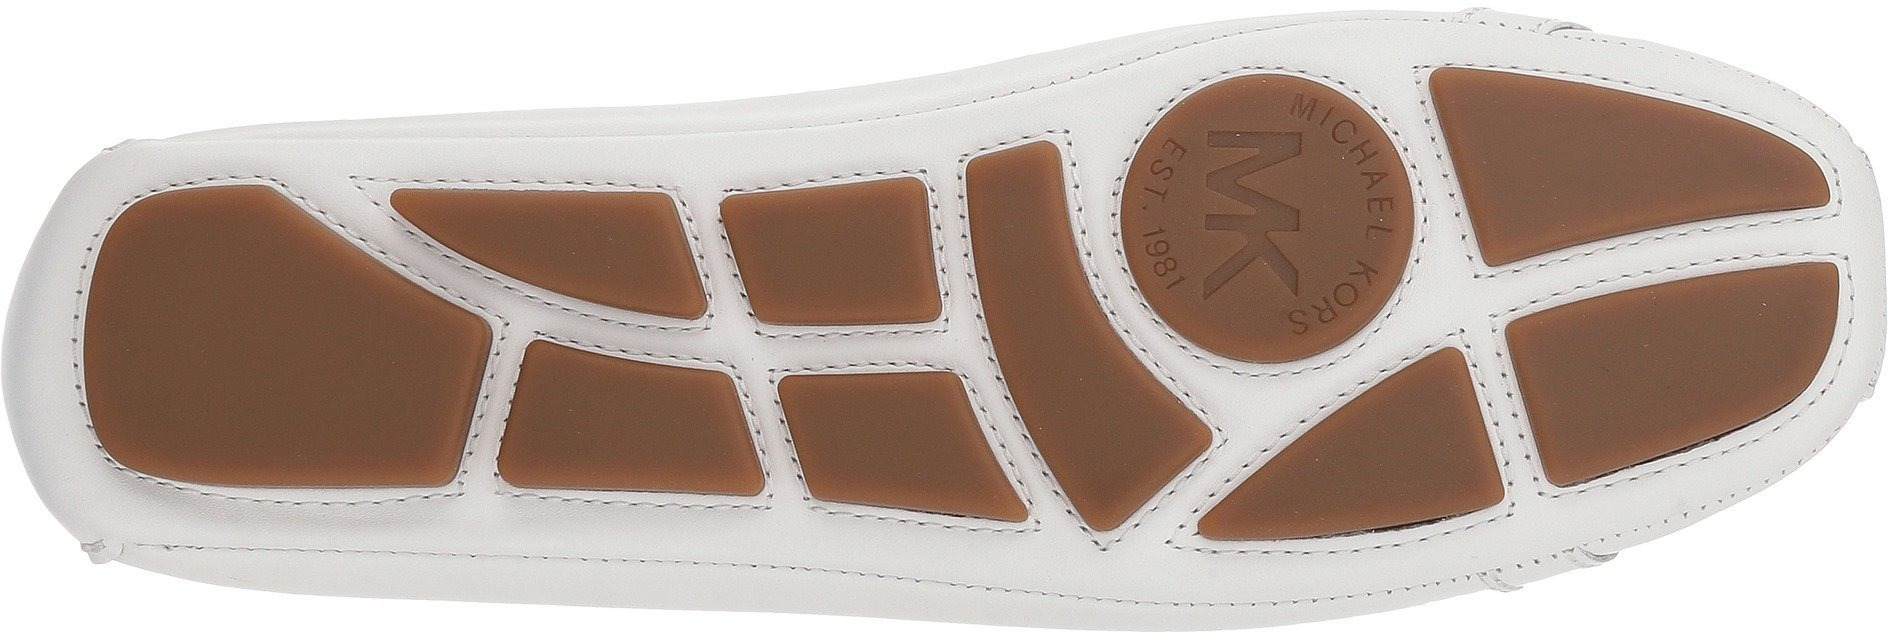other: (112, 241, 350, 464), (1473, 85, 1622, 237), (1550, 307, 1709, 446), (812, 378, 946, 500), (1029, 346, 1147, 482), (544, 358, 665, 484), (769, 203, 889, 328), (1346, 404, 1464, 522)
text: (1164, 129, 1365, 322)
